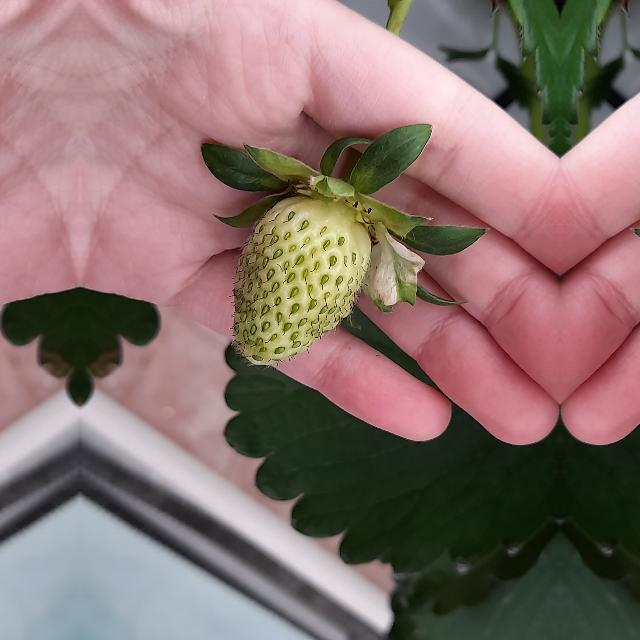Health_25: (232, 196, 372, 364)
